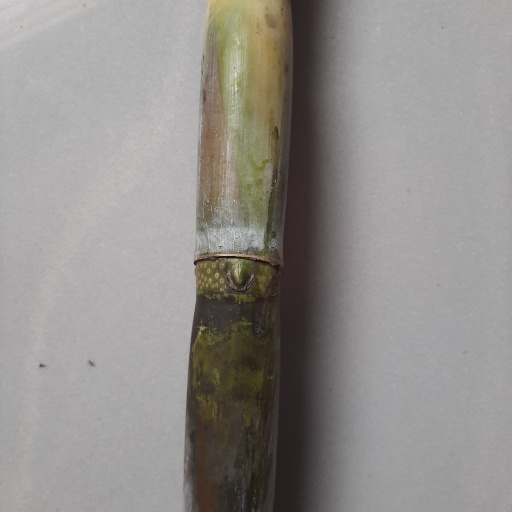Bud: (229, 260, 252, 290)
